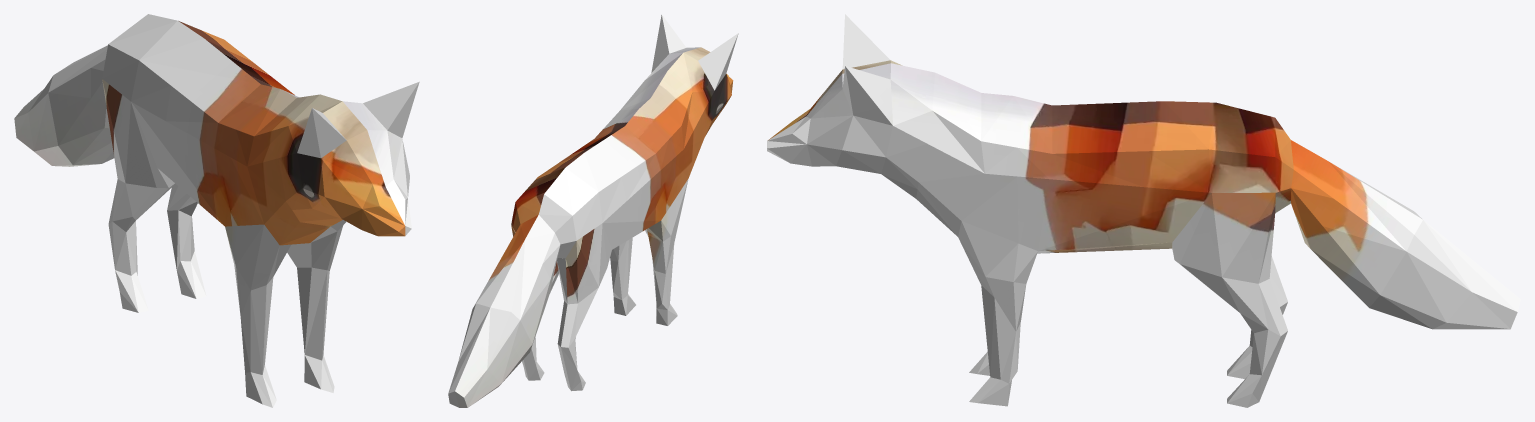
Rendered from Pet_Fox.obj.
3 renders of one model, left to right at view 1: azimuth 30°, elevation 25°; view 2: azimuth 150°, elevation 25°; view 3: azimuth 270°, elevation 25°, orthographic. The views are drawn at different scales.
Parts seen in each view (by area): view 1: Pet_Fox; view 2: Pet_Fox; view 3: Pet_Fox.
Part boxes in pixels (left/top/right/bottom): Pet_Fox: left=14, top=14, right=419, bottom=407; Pet_Fox: left=448, top=14, right=738, bottom=407; Pet_Fox: left=767, top=14, right=1520, bottom=407.
Bounding box in the file's own units: 0.6374 × 2 × 3.92.
